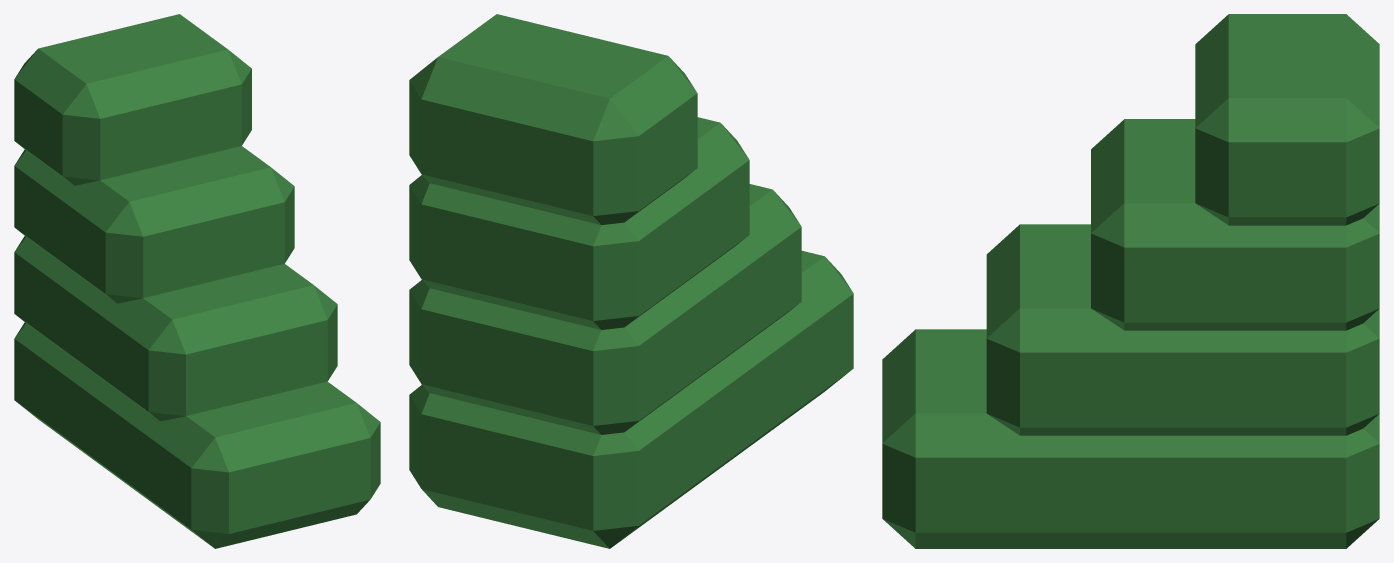
File: m_kub_dung_stairs_straightSmall.fbx
3 renders of one model, left to right at view 1: azimuth 30°, elevation 25°; view 2: azimuth 150°, elevation 25°; view 3: azimuth 270°, elevation 25°, orthographic. The views are drawn at different scales.
Visible parts, largest first — view 1: m_kub_dung_stairs_straightSmall; view 2: m_kub_dung_stairs_straightSmall; view 3: m_kub_dung_stairs_straightSmall.
Part boxes in pixels (box(x1,y1,x2,y2)): m_kub_dung_stairs_straightSmall: box(14, 14, 380, 548); m_kub_dung_stairs_straightSmall: box(409, 14, 853, 548); m_kub_dung_stairs_straightSmall: box(882, 14, 1379, 548).
Size of the model in its own units: 1.15 by 2.15 by 2.15.
